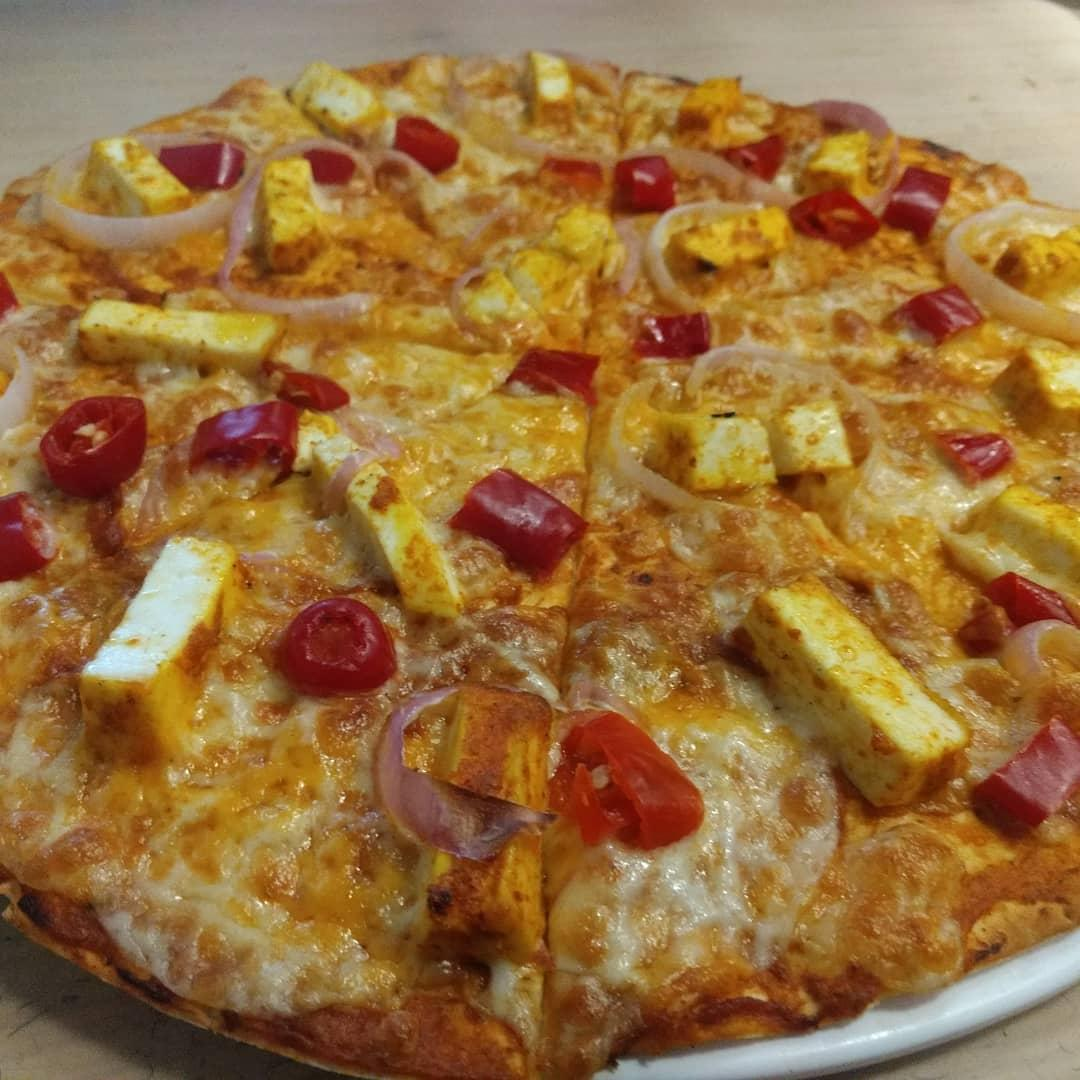Chicken: (734, 572, 976, 817), (69, 530, 250, 760), (307, 433, 461, 622), (634, 390, 853, 491), (68, 289, 288, 375), (424, 819, 553, 963), (430, 669, 558, 814), (473, 202, 619, 329), (82, 123, 196, 229), (659, 194, 795, 277), (984, 483, 1080, 580), (996, 336, 1080, 431), (290, 56, 378, 143), (256, 155, 322, 267), (794, 118, 868, 208), (995, 223, 1080, 301), (519, 39, 580, 135), (375, 51, 450, 117), (674, 70, 752, 132)
Onion: (599, 338, 893, 526), (222, 130, 378, 326), (378, 682, 537, 870), (31, 120, 252, 245), (930, 199, 1080, 348), (638, 193, 795, 322), (607, 135, 797, 211), (437, 114, 537, 228), (309, 421, 403, 516), (359, 147, 471, 219), (1002, 605, 1080, 707), (0, 320, 37, 450), (605, 215, 644, 298)
Peppers: (543, 707, 710, 868), (445, 463, 585, 574), (971, 710, 1080, 838), (280, 588, 400, 701), (38, 394, 150, 493), (186, 394, 305, 481), (954, 565, 1080, 642), (493, 338, 607, 408), (0, 471, 59, 598), (789, 184, 887, 252), (624, 297, 716, 367), (152, 132, 251, 197), (901, 274, 990, 346), (874, 162, 958, 238), (931, 419, 1020, 489), (272, 357, 356, 413), (390, 114, 465, 176), (613, 145, 677, 215), (718, 125, 788, 187), (290, 141, 361, 190), (538, 149, 608, 195), (0, 259, 19, 329)
Pizza: (0, 47, 1080, 1080)
